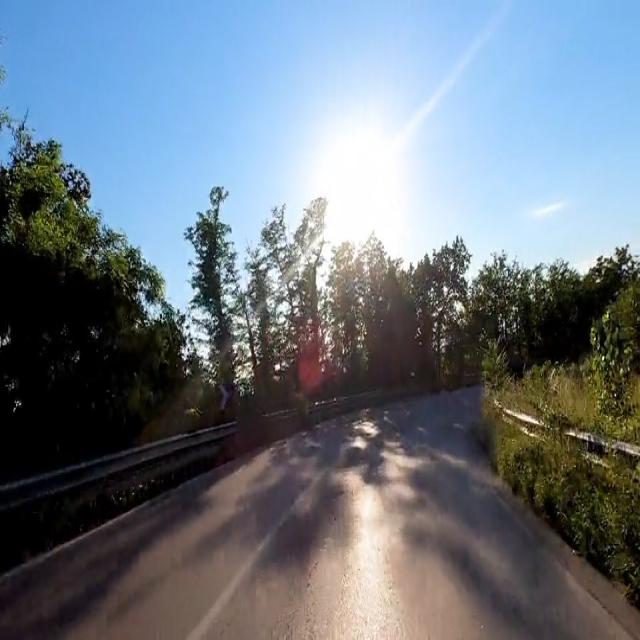lane: (0, 386, 639, 638), (186, 474, 325, 640)
road: (0, 386, 639, 638)
